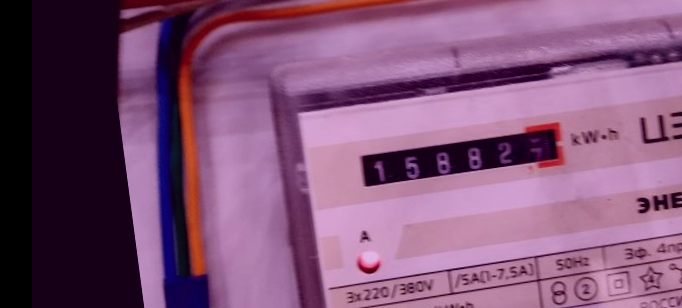1: (372, 157, 389, 184)
2: (497, 137, 516, 165)
5: (403, 153, 422, 179)
7: (529, 143, 545, 161)
8: (434, 148, 454, 174), (465, 142, 484, 169)
screen: (346, 113, 578, 202)
